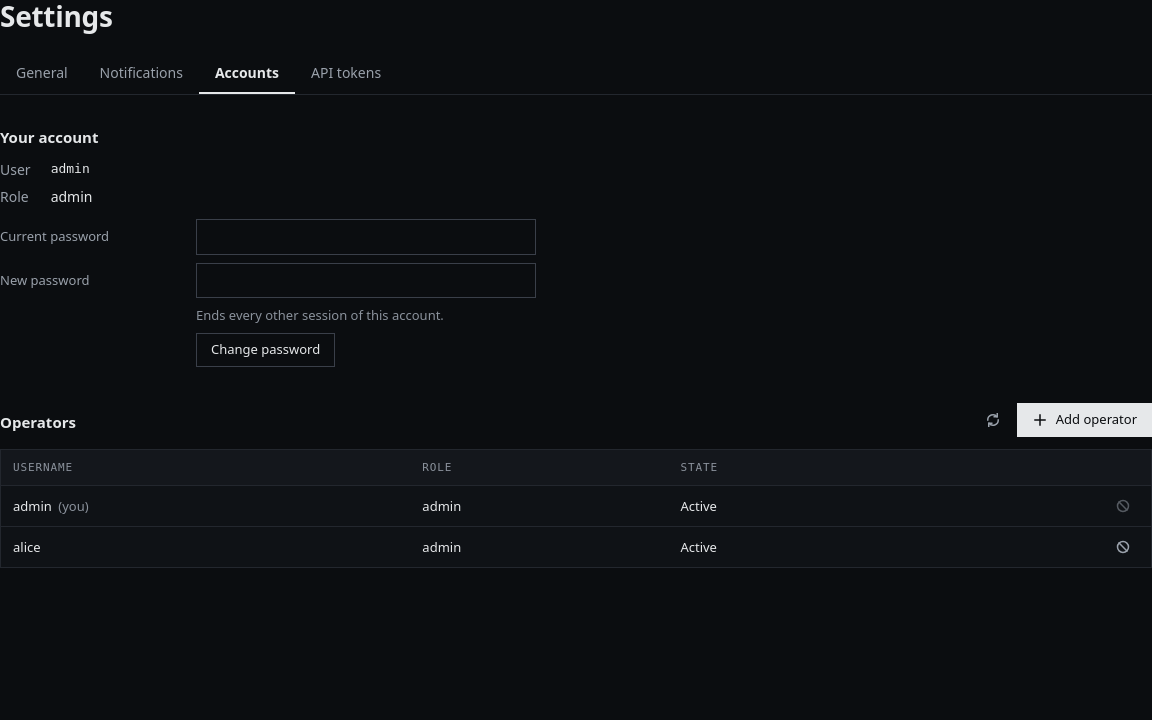
keeps a failed account creation in the dialog
The width and height of the screenshot is (1152, 720).
Expected: the text "alice" is shown, [1,527,410,568]
Click the button "Add operator": (1084, 420) [1017,403,1151,437]
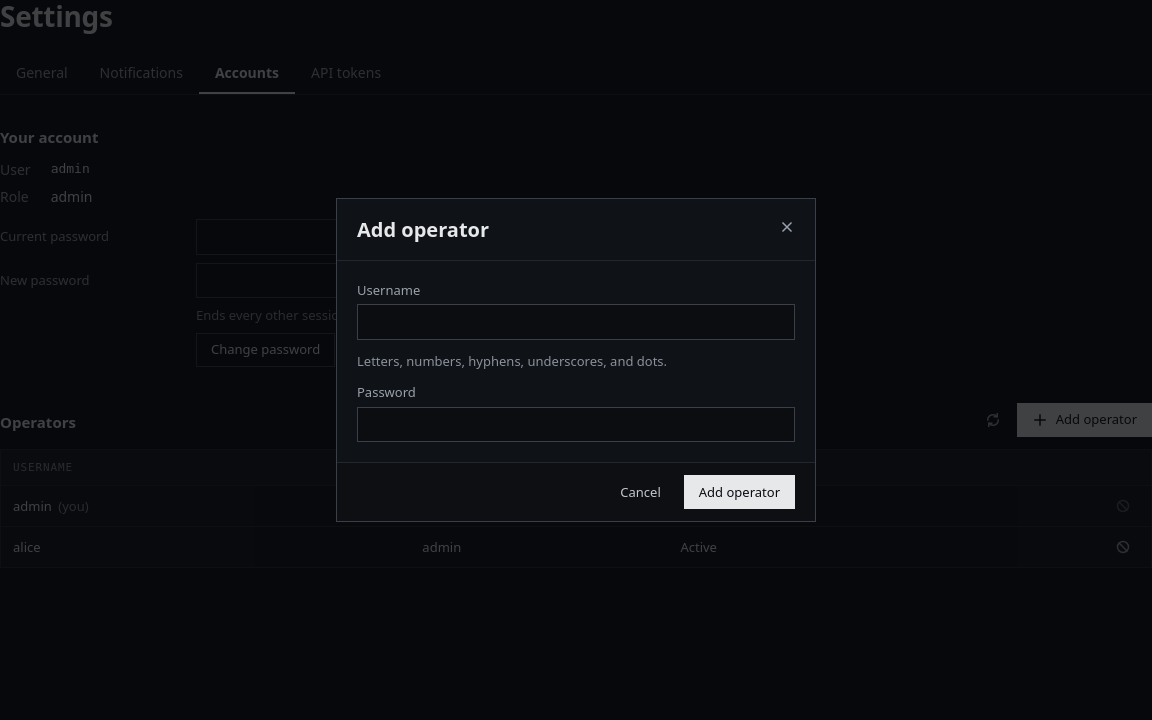
In the field labelled "Username": (576, 322) [357,304,795,340], type "alice"
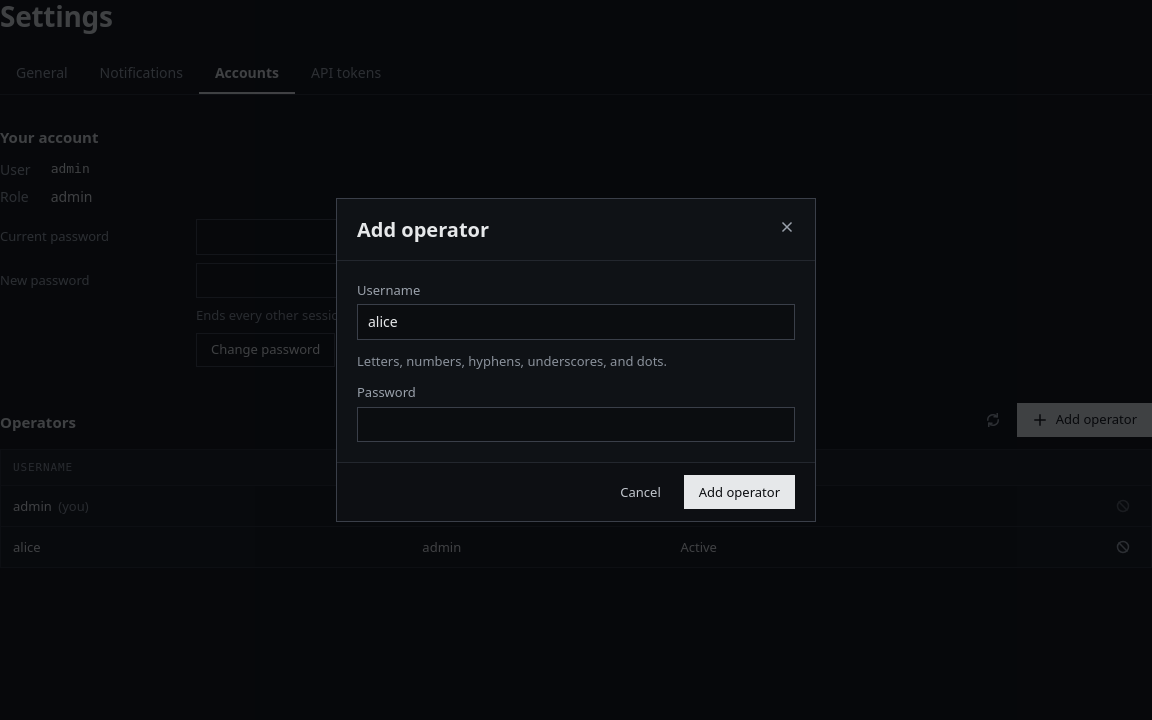
In the password field labelled "Password": (576, 425) [357,407,795,442], type "password"
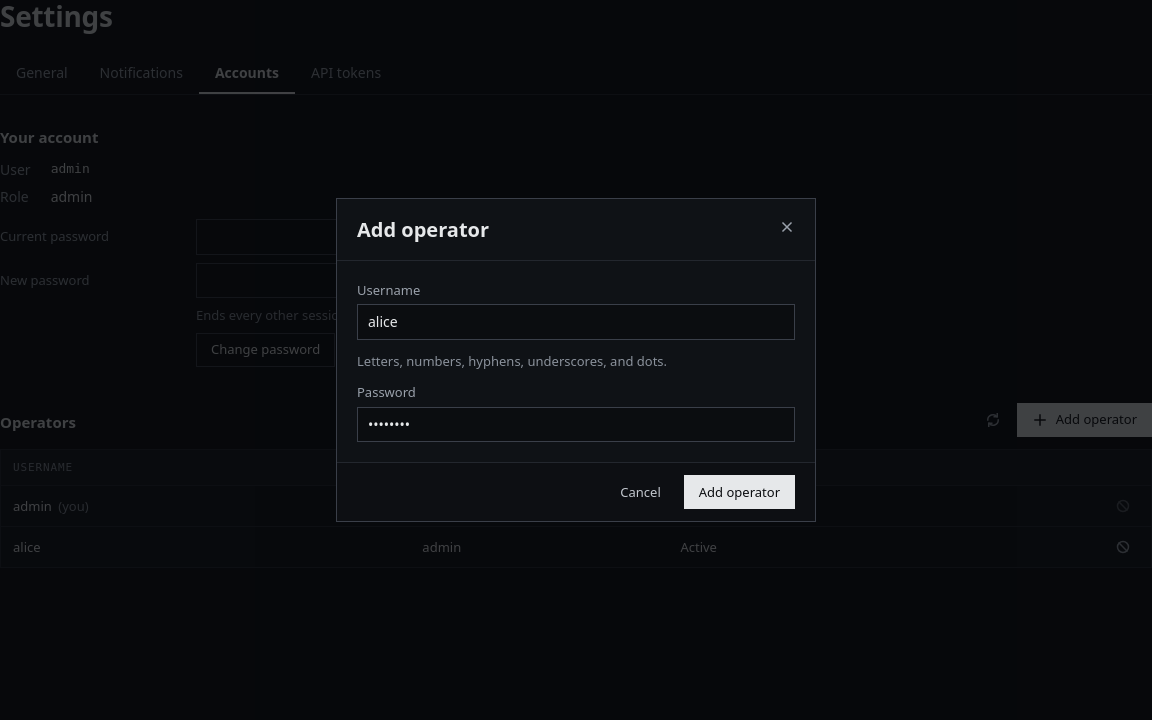
Click the button "Add operator": (739, 492) [684,475,795,509]
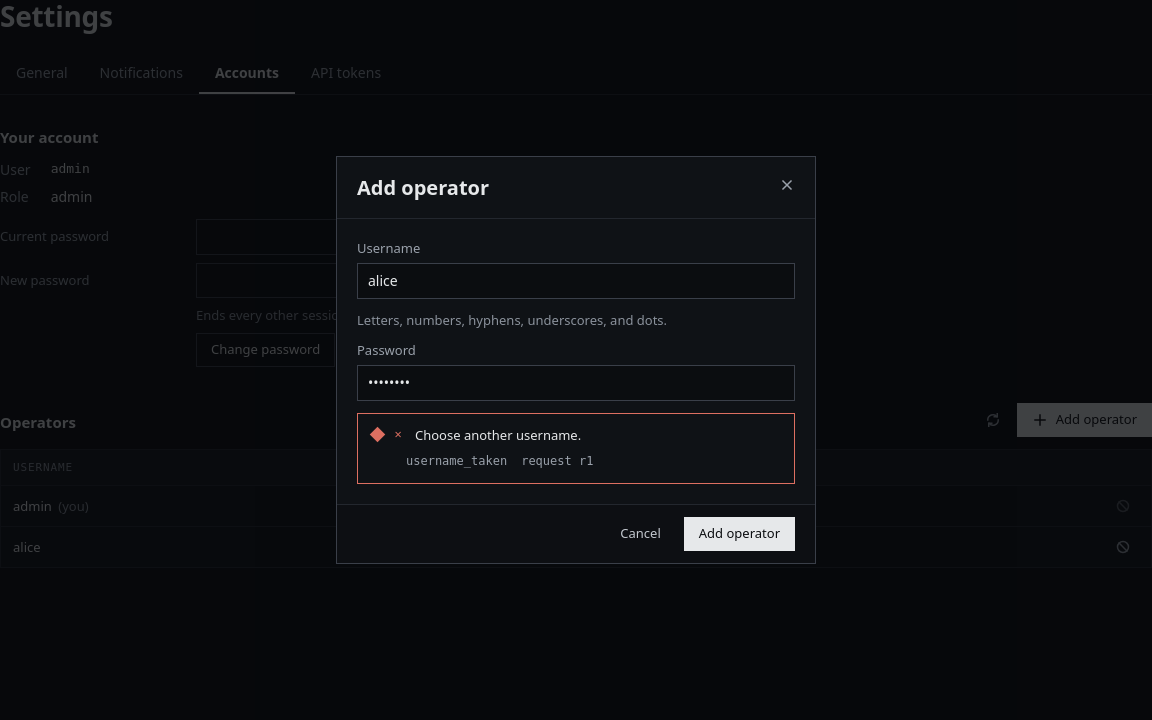
Result: the message shows "username_taken" at [406,454,507,468]
